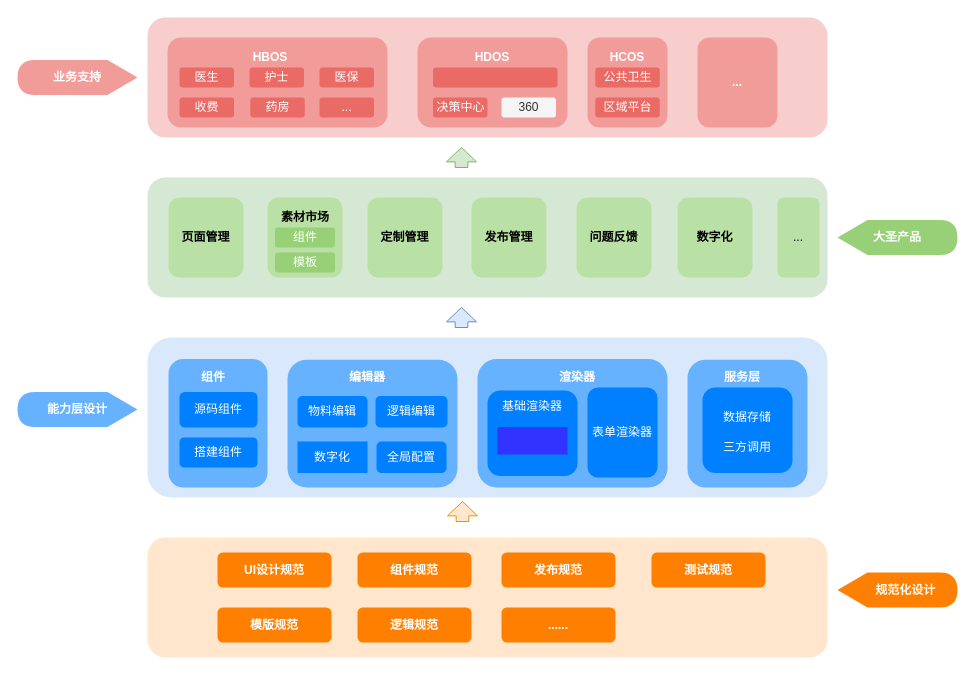
Image size: 974x674. Some labels were removed from this diagram. The box of each missing label's shape, as (x1, y1, x2, y2) in pixels:
大数据中心: (432, 67, 557, 87)
定制渲染: (497, 426, 567, 454)
